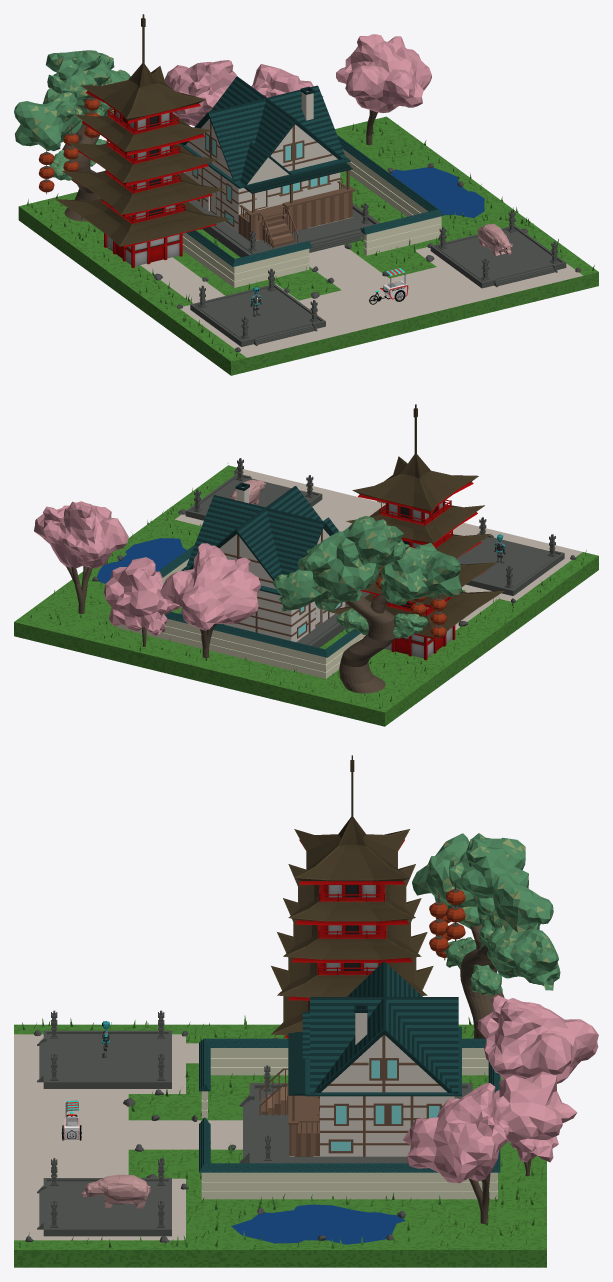
3 views of the same model, one above another, from view 1: azimuth 30°, elevation 25°; view 2: azimuth 150°, elevation 25°; view 3: azimuth 270°, elevation 25° (orthographic). The views are drawn at different scales.
Parts seen in each view (by area): view 1: Cube.005, Cube.793, ANIMAL_HIPOPOTAMO, VEHICLES_SNOWBAL_BIKE; view 2: Cube.005, Cube.793; view 3: Cube.005, Cube.793, ANIMAL_HIPOPOTAMO.
Boxes of the visible parts, box(x1,y1,x2,y2) form: Cube.005: box(14, 14, 598, 375); Cube.793: box(179, 76, 355, 248); ANIMAL_HIPOPOTAMO: box(477, 224, 512, 255); VEHICLES_SNOWBAL_BIKE: box(369, 268, 408, 304); Cube.005: box(14, 404, 598, 726); Cube.793: box(181, 482, 347, 641); Cube.005: box(14, 755, 598, 1267); Cube.793: box(259, 961, 461, 1156); ANIMAL_HIPOPOTAMO: box(81, 1174, 150, 1208).
Bounding box in the file's own units: 4528 × 2693 × 4389.
Materials: 35 (6 with a texture image).
